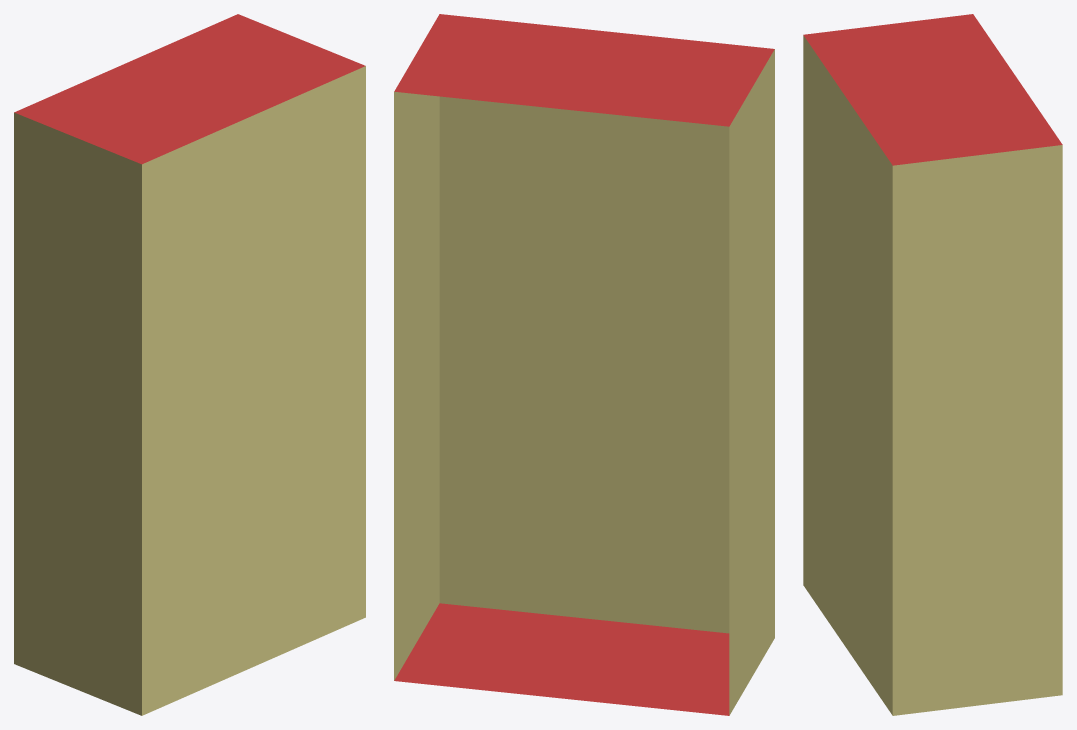
3 views of the same model, side by side, from view 1: azimuth 30°, elevation 25°; view 2: azimuth 150°, elevation 25°; view 3: azimuth 270°, elevation 25° (orthographic). The views are drawn at different scales.
Bounding box in the file's own units: 4.56 × 3.3 × 7.72.
